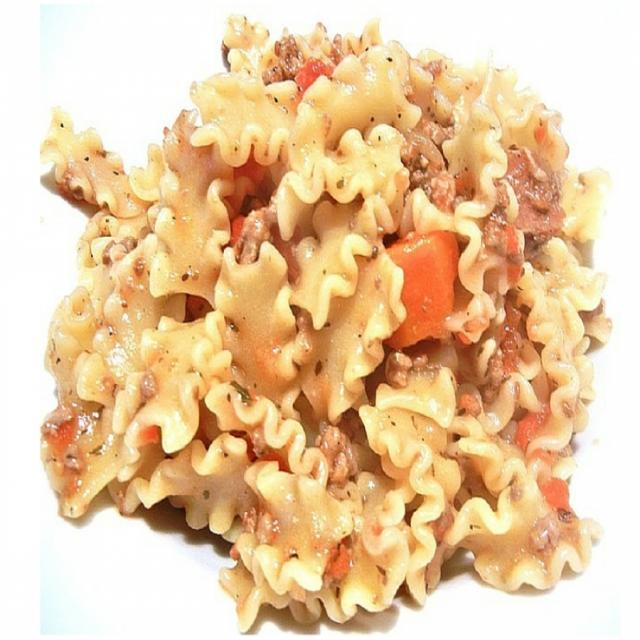Pasta al ragu: (66, 44, 580, 582)
